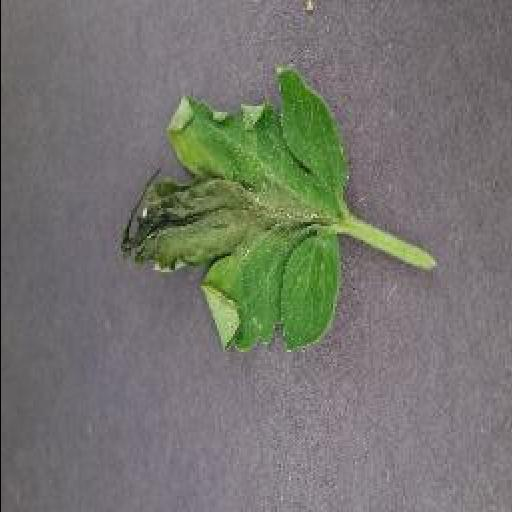disease_tomato: (114, 68, 354, 358)
